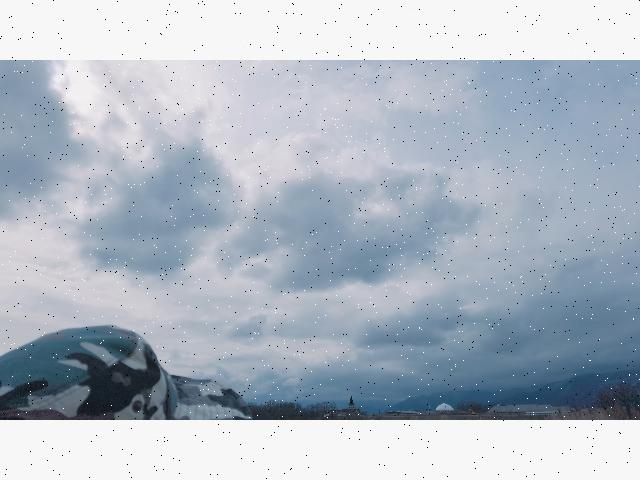Anti-Drone: (288, 293, 304, 303)
